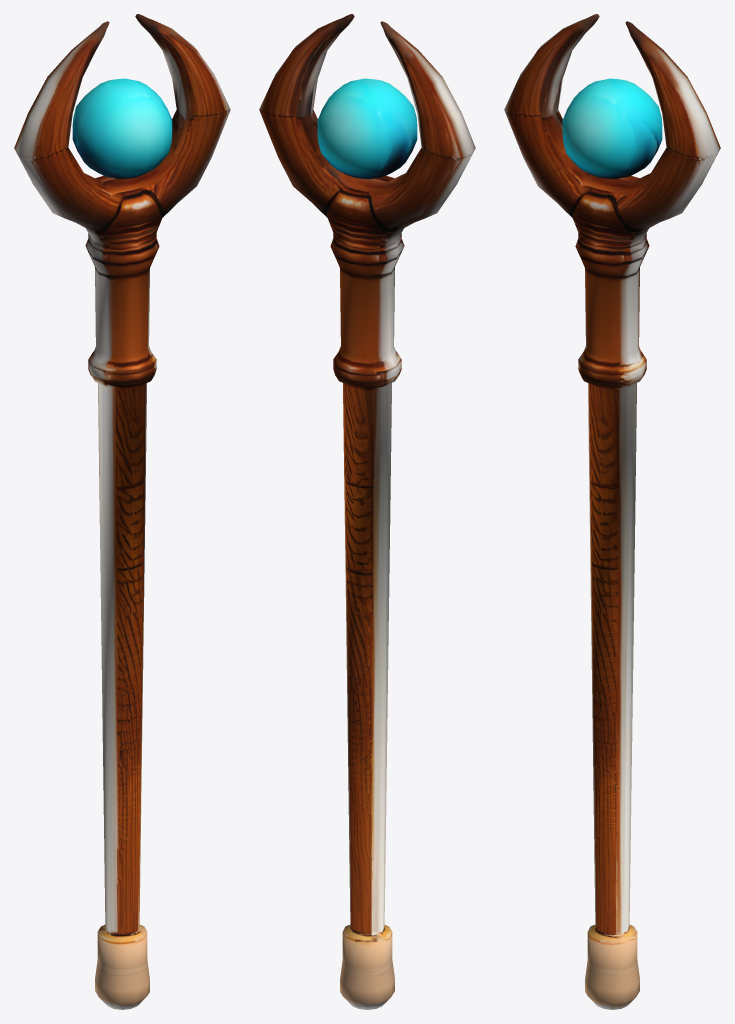
The model's file is ApprenticeRod.fbx.
3 views of the same model, side by side, from view 1: azimuth 30°, elevation 25°; view 2: azimuth 150°, elevation 25°; view 3: azimuth 330°, elevation 25° (orthographic).
Parts seen in each view (by area): view 1: mesh_rep_0_ori_repair_quad; view 2: mesh_rep_0_ori_repair_quad; view 3: mesh_rep_0_ori_repair_quad.
Part boxes in pixels (bbox=[...]): mesh_rep_0_ori_repair_quad: bbox=[14, 14, 230, 1009]; mesh_rep_0_ori_repair_quad: bbox=[259, 14, 475, 1009]; mesh_rep_0_ori_repair_quad: bbox=[504, 14, 720, 1009].
Size of the model in its own units: 26.7 by 121 by 11.24.
1 material, 1 textured.
